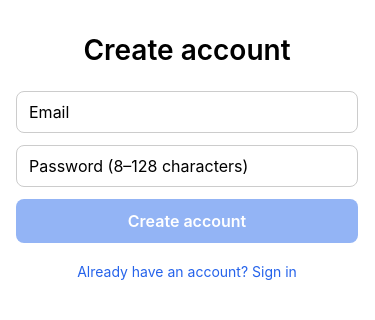
Test: RegisterScreen server outcomes › register succeeds but auto-login fails → error + sign-in affordance, nothing persisted
expect the button "Create account" is shown: met, box [16, 198, 358, 242]
In the field labelled "Email": (187, 112) [16, 90, 358, 132], type "new@example.com"
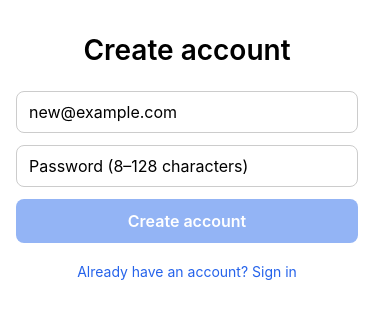
In the password field labelled "Password": (187, 166) [16, 144, 358, 186], type "longenough1"
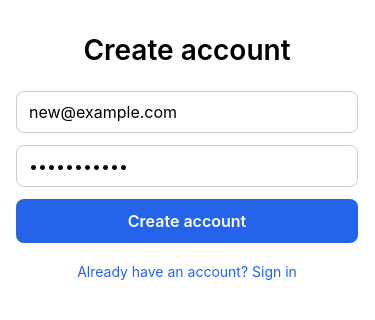
Click the button "Create account": (187, 220) [16, 198, 358, 242]
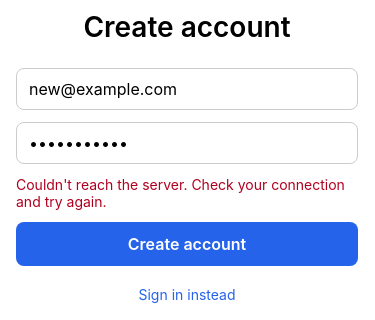
expect the text "Couldn't reach the server. Check your connection and try again." is shown: met, box [16, 176, 358, 210]
expect the text "Sign in instead" is shown: met, box [138, 286, 236, 302]
